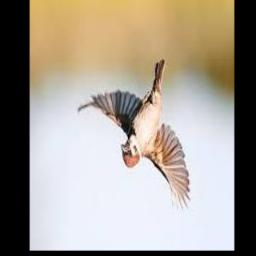Sparrow: (78, 60, 191, 214)
